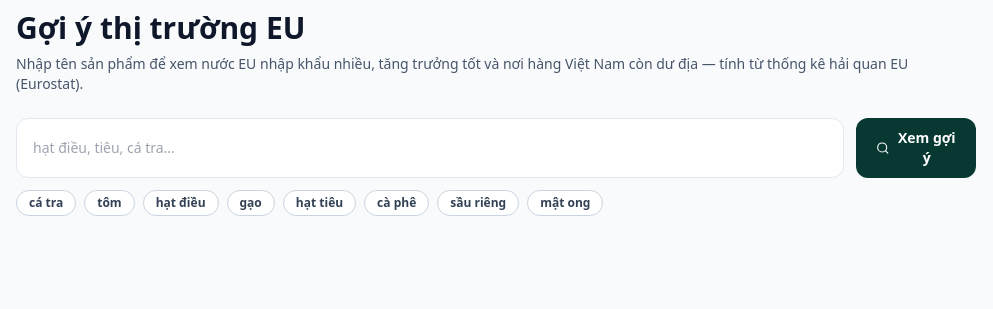
it: Gợi ý thị trường EU (U16) › không nhận ra sản phẩm: gợi ý nhóm có sẵn; ô trống thì báo lỗi, không gọi API
Step 1. Click the button "Xem gợi ý" → (916, 148), box [856,118,976,178]
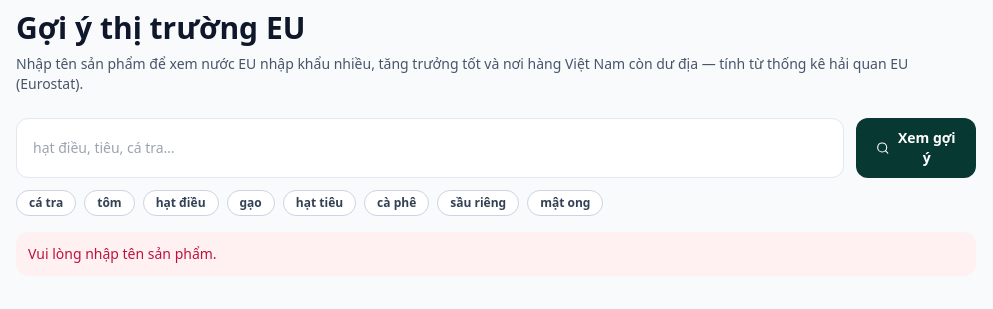
Now the message shows "Vui lòng nhập tên sản phẩm", box [28,244,217,263]
Step 2. Type "xe máy" into the field named "Sản phẩm" → (430, 148), box [16,118,844,178]
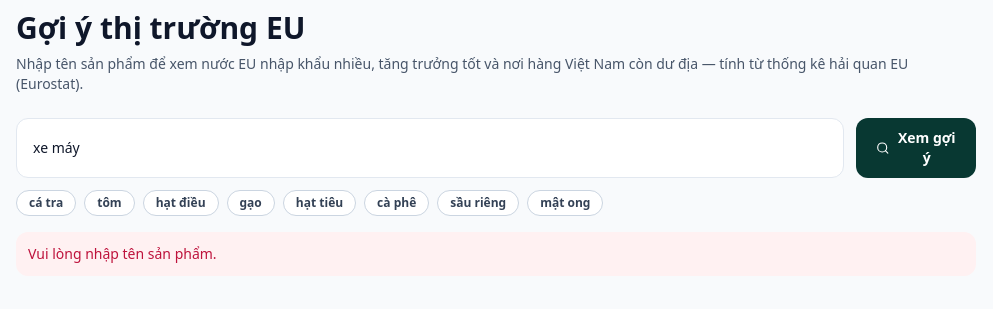
Step 3. Click the button "Xem gợi ý" → (916, 148), box [856,118,976,178]
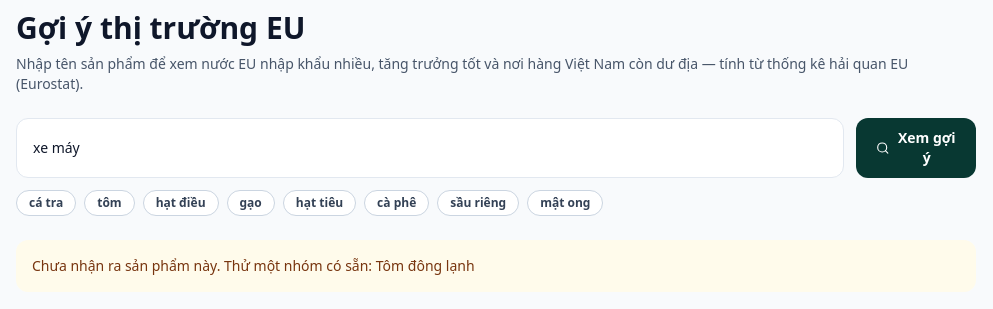
Now the message shows "Tôm đông lạnh", box [376,256,475,275]
